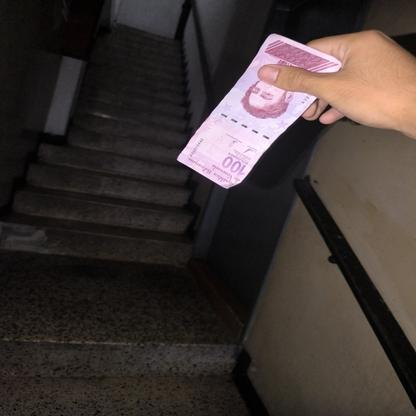one_hundred-front-vef: (175, 33, 342, 189)
